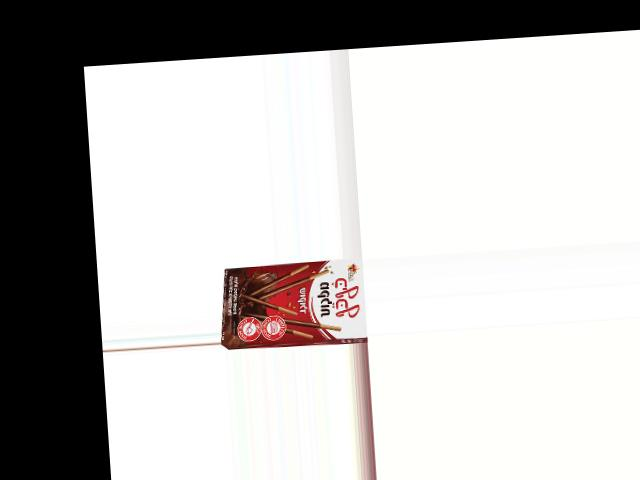chocolate: (225, 257, 367, 350)
